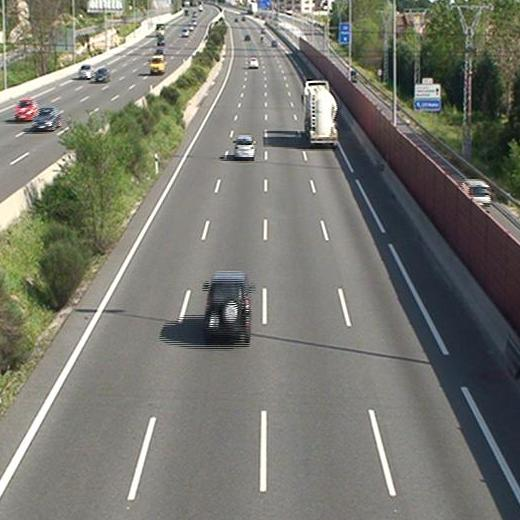car: (203, 274, 250, 336), (234, 135, 255, 158), (247, 57, 258, 67)
tank-truck: (301, 82, 338, 144)
